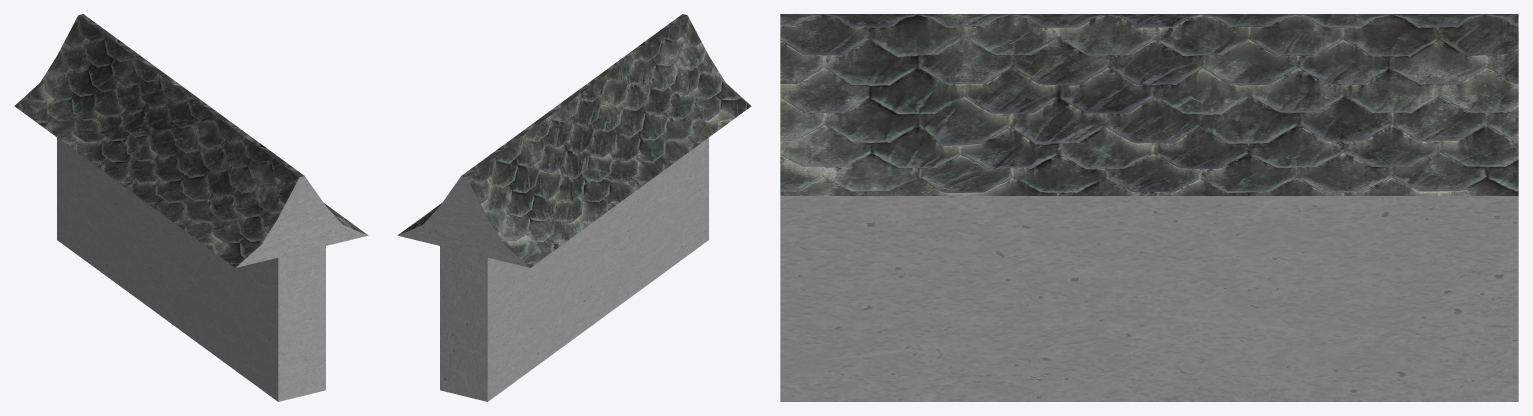
Rendered from muralla.fbx.
3 views of the same model, side by side, from view 1: azimuth 30°, elevation 25°; view 2: azimuth 150°, elevation 25°; view 3: azimuth 270°, elevation 25° (orthographic). The views are drawn at different scales.
Parts seen in each view (by area): view 1: muralla; view 2: muralla; view 3: muralla.
Part boxes in pixels (bbox=[...]): muralla: bbox=[14, 14, 368, 401]; muralla: bbox=[397, 14, 751, 401]; muralla: bbox=[780, 14, 1518, 401].
Bounding box in the file's own units: 195 × 308 × 562.
